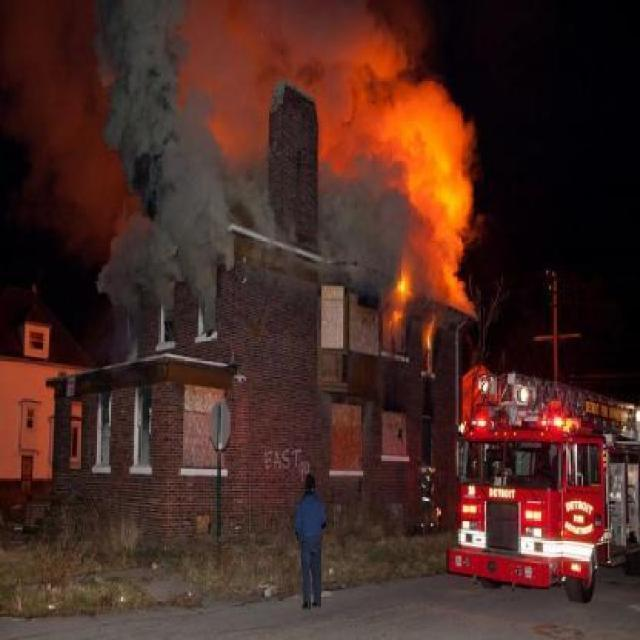Fire: (368, 251, 444, 366)
Smoke: (200, 17, 474, 299), (90, 0, 230, 345), (6, 5, 120, 263), (228, 142, 410, 292)
